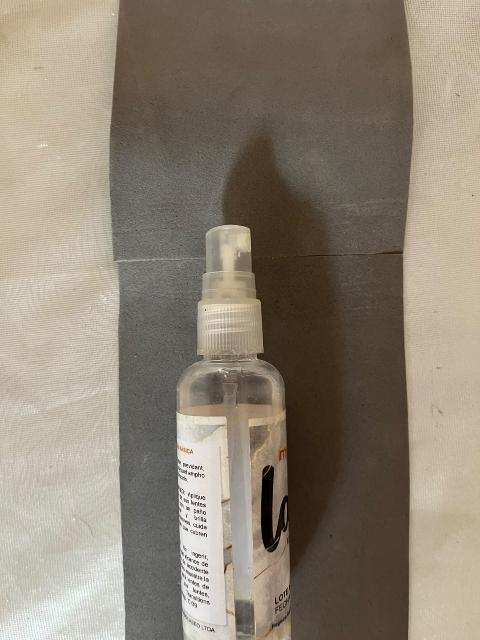PET: (136, 196, 331, 639)
